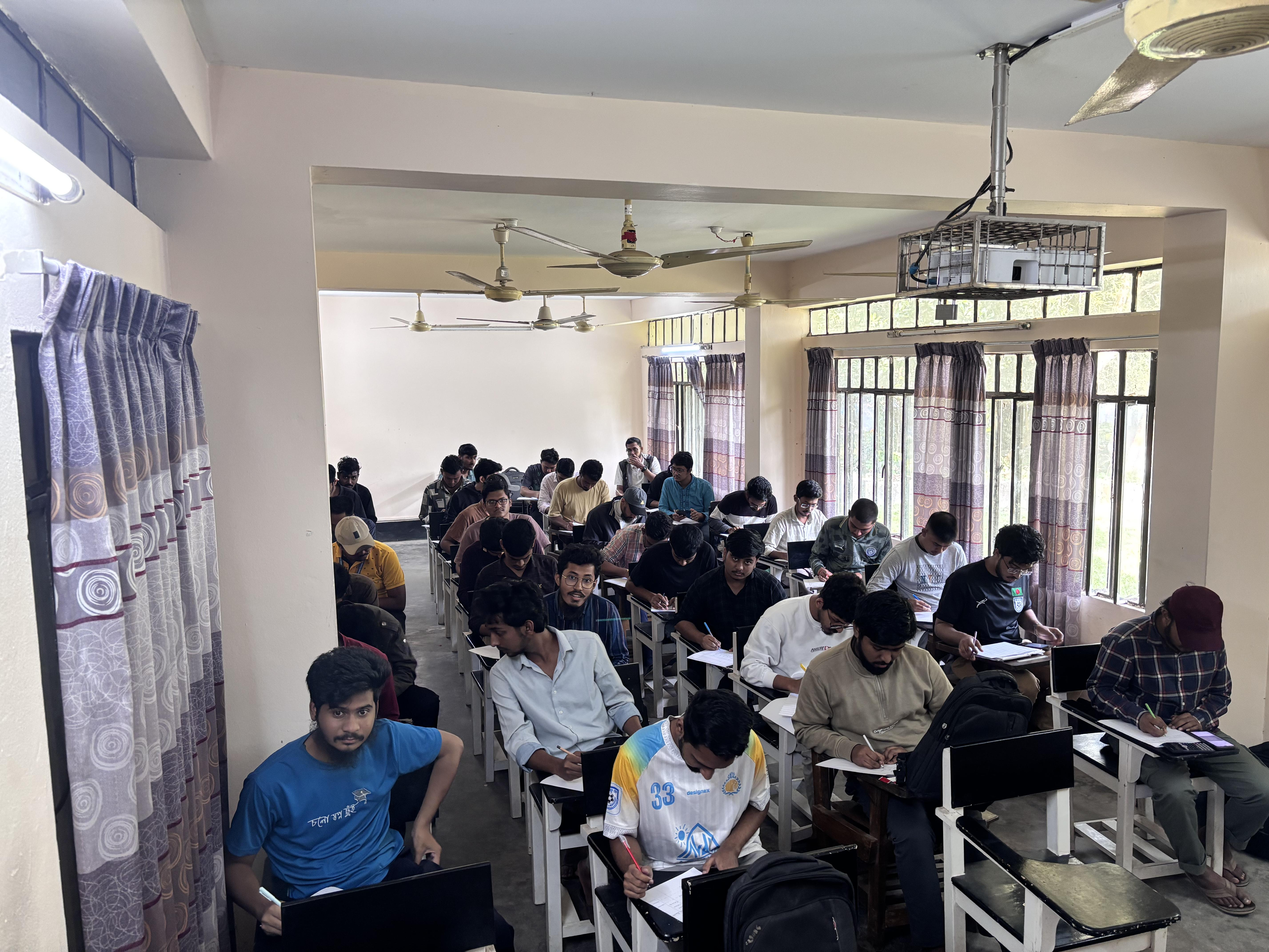copying: (470, 580, 646, 791), (1095, 582, 1250, 794), (333, 511, 418, 622), (656, 446, 730, 542)
hidden_communication: (617, 432, 665, 496)
no_cheating: (225, 642, 465, 916), (615, 687, 779, 914), (825, 588, 941, 783), (951, 516, 1075, 684), (758, 567, 872, 693), (702, 530, 780, 658), (480, 516, 555, 624), (896, 507, 963, 621), (636, 523, 714, 619), (811, 497, 898, 582), (547, 541, 612, 630), (551, 460, 619, 536), (589, 482, 654, 559), (605, 508, 675, 570), (770, 479, 830, 551), (425, 452, 478, 526), (720, 474, 785, 534), (470, 473, 527, 527), (333, 449, 370, 503)
